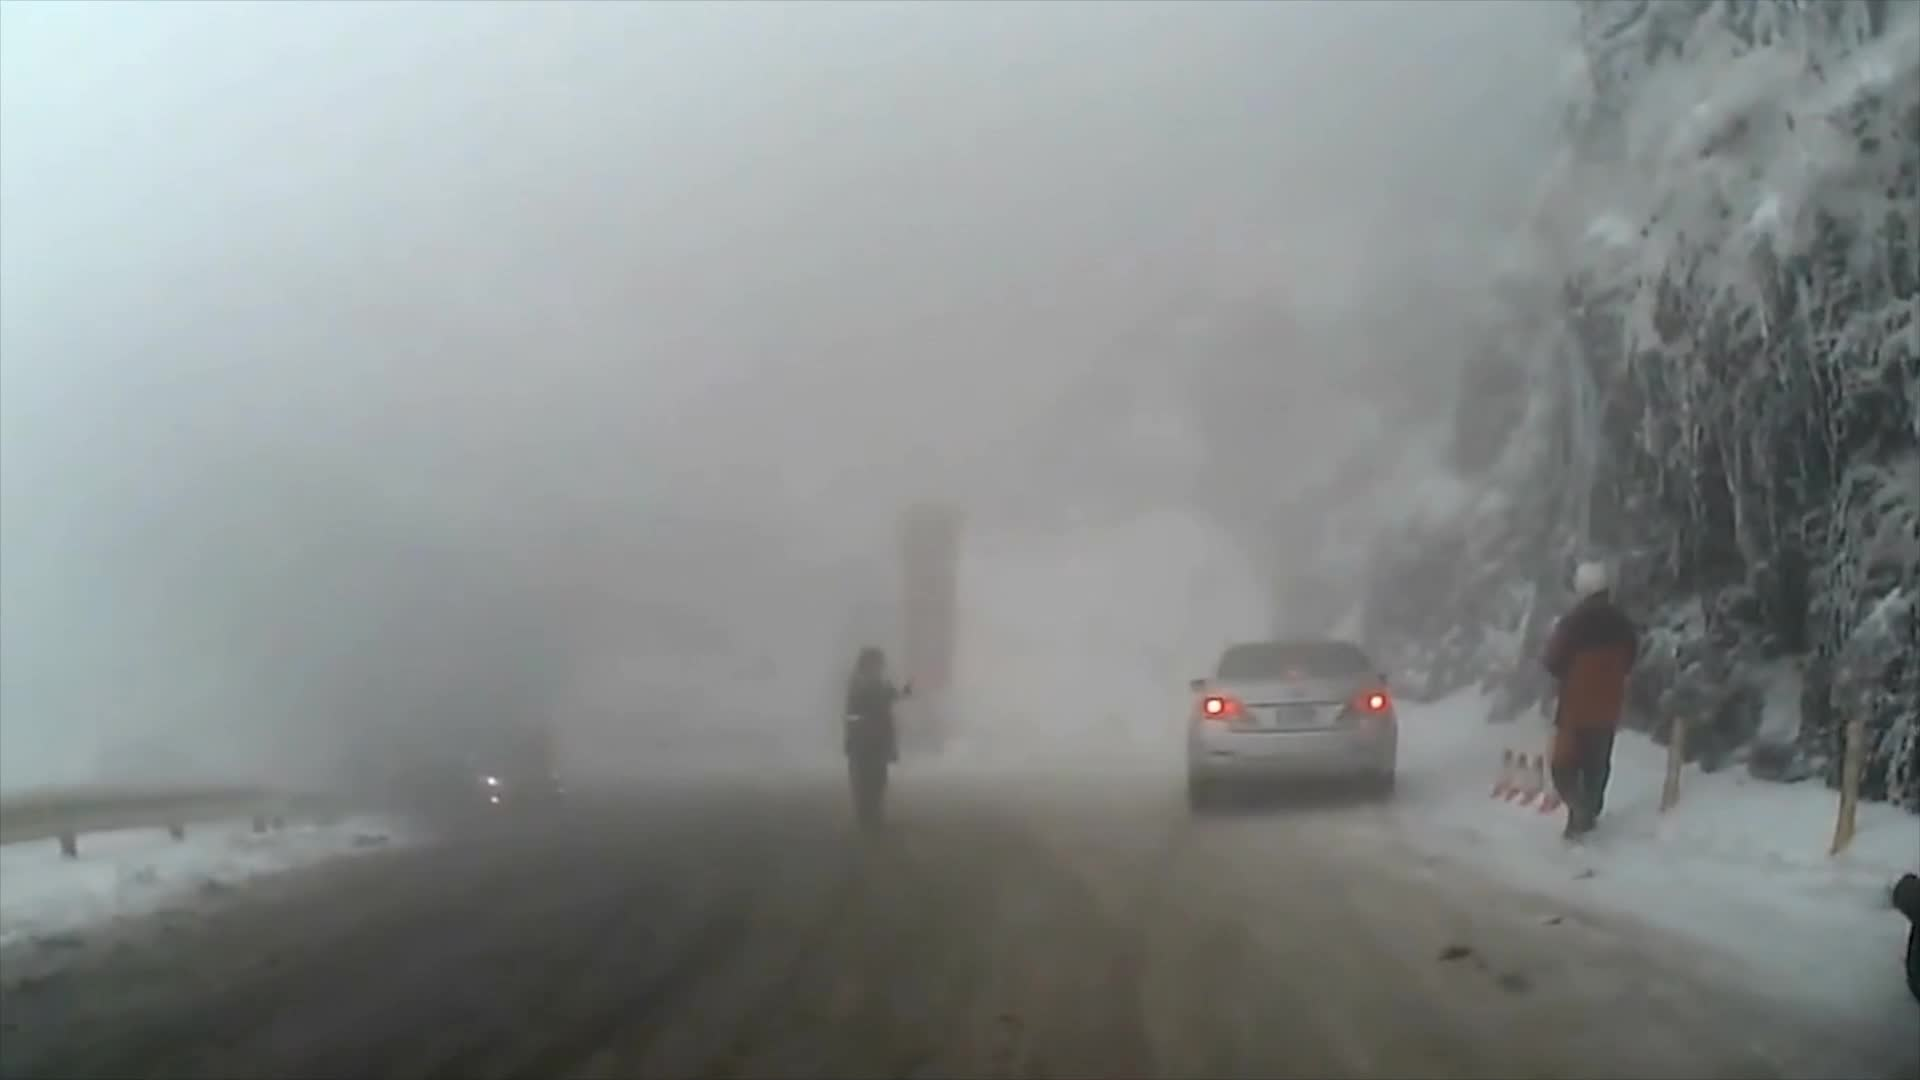pedestrian: (1539, 552, 1646, 842), (847, 644, 910, 831)
vehicle: (1185, 634, 1395, 810)
